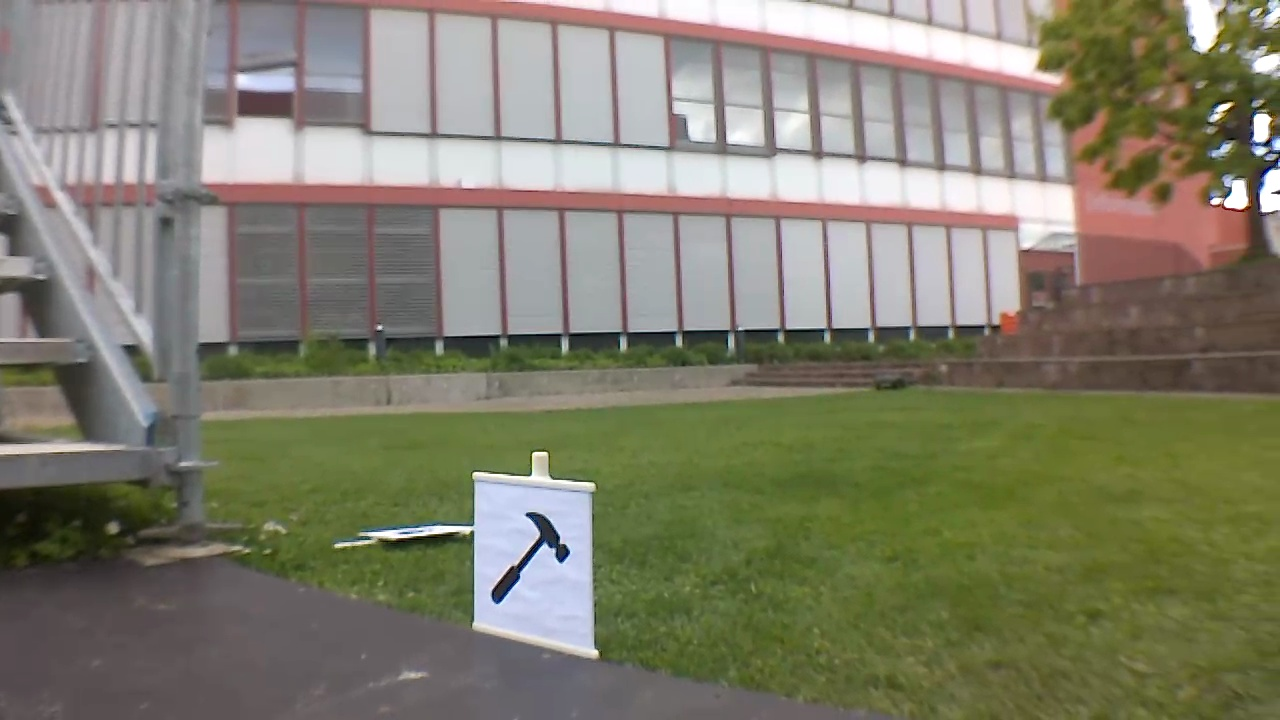hammer: (483, 506, 577, 612)
